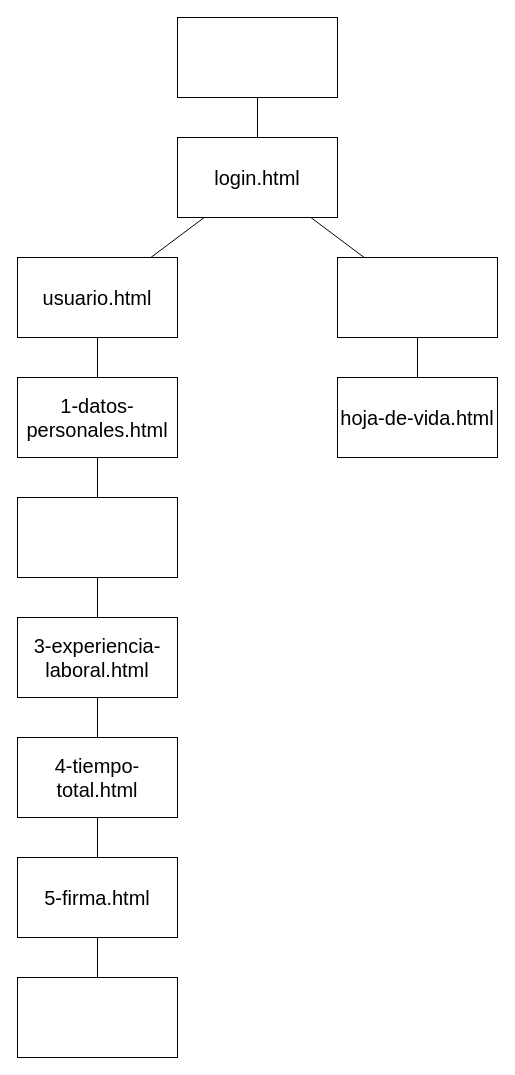
This 515x1075 diagram has some shape labels left out. The shapes that lost their labels are listed below. From the top down, each one's box as (x1, y1, x2, y2) in pixels, then its label:
(176, 16, 338, 98): index.html
(336, 256, 498, 338): admin.html
(16, 496, 178, 578): 2-formacion-academica.html
(16, 976, 178, 1058): 6-observaciones .html
